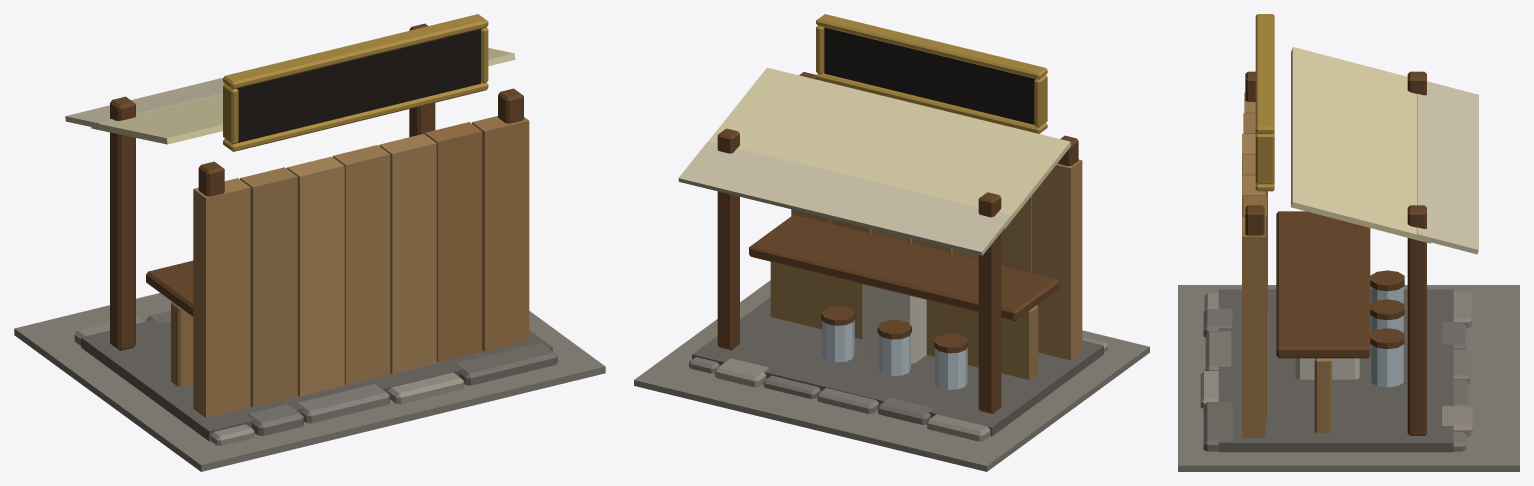
Rendered from SkyMarket.glb.
3 renders of one model, left to right at view 1: azimuth 30°, elevation 25°; view 2: azimuth 150°, elevation 25°; view 3: azimuth 270°, elevation 25°, orthographic. The views are drawn at different scales.
Parts seen in each view (by area): view 1: Body, Sign, Roof; view 2: Body, Roof, Sign; view 3: Body, Roof.
Part boxes in pixels (x1,y1,x2,y2): Body: (14, 14, 605, 471); Sign: (237, 29, 480, 142); Roof: (65, 48, 515, 144); Body: (634, 14, 1149, 471); Roof: (678, 67, 1071, 255); Sign: (824, 27, 1035, 124); Body: (1178, 14, 1519, 471); Roof: (1291, 47, 1478, 254).
Bounding box in the file's own units: 10 × 8.03 × 8.
